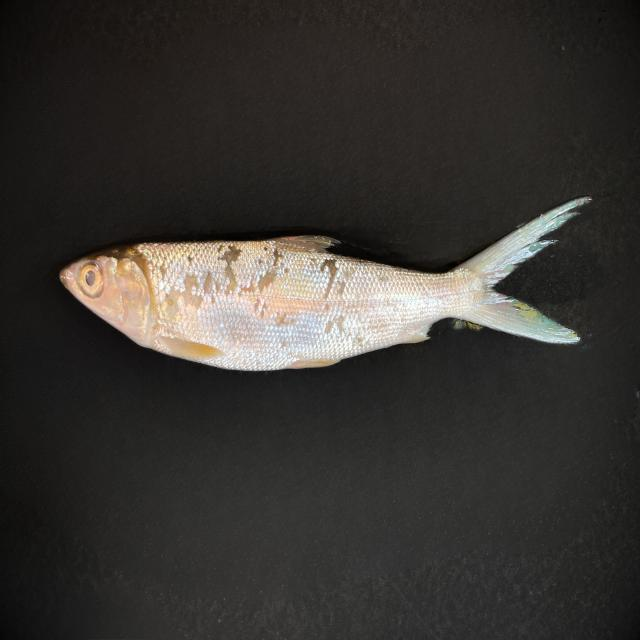605 g: (59, 196, 594, 371)
